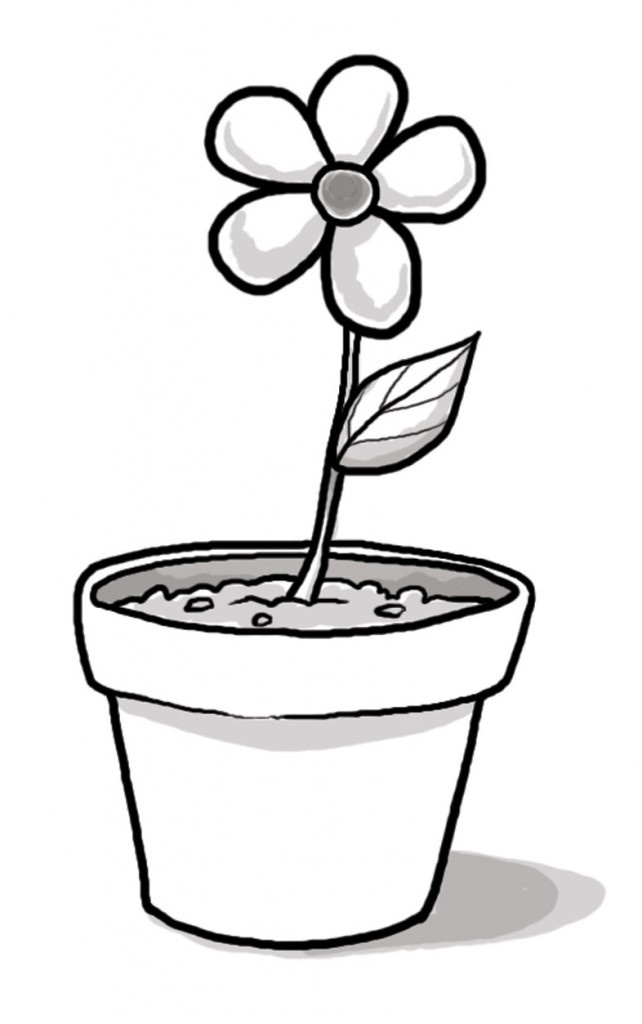flowerpot: (76, 545, 538, 946)
